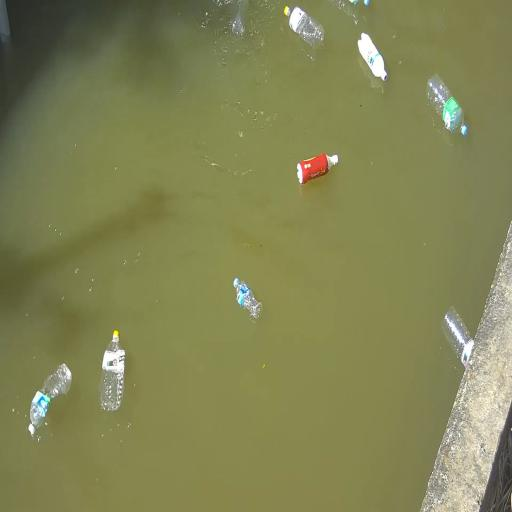plastic: (28, 364, 71, 437), (427, 74, 467, 136), (100, 330, 125, 411), (443, 307, 474, 368), (284, 6, 324, 50), (358, 33, 387, 81), (297, 154, 338, 184), (233, 277, 262, 317), (346, 0, 370, 7)
